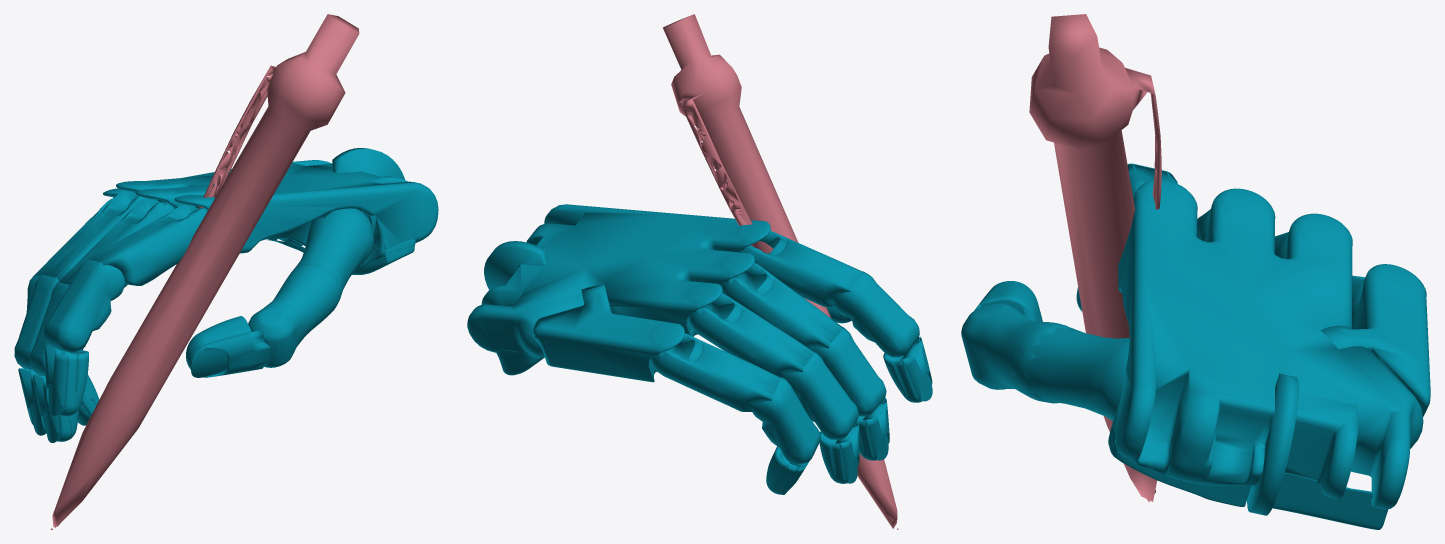
3 renders of one model, left to right at view 1: azimuth 30°, elevation 25°; view 2: azimuth 150°, elevation 25°; view 3: azimuth 270°, elevation 25°, orthographic. The views are drawn at different scales.
Parts seen in each view (by area): view 1: world; view 2: world; view 3: world.
Part boxes in pixels (x1,y1,x2,y2): world: (14,14,438,529); world: (467,14,932,529); world: (961,14,1430,529).
Size of the model in its own units: 0.1845 by 0.2 by 0.1289.
